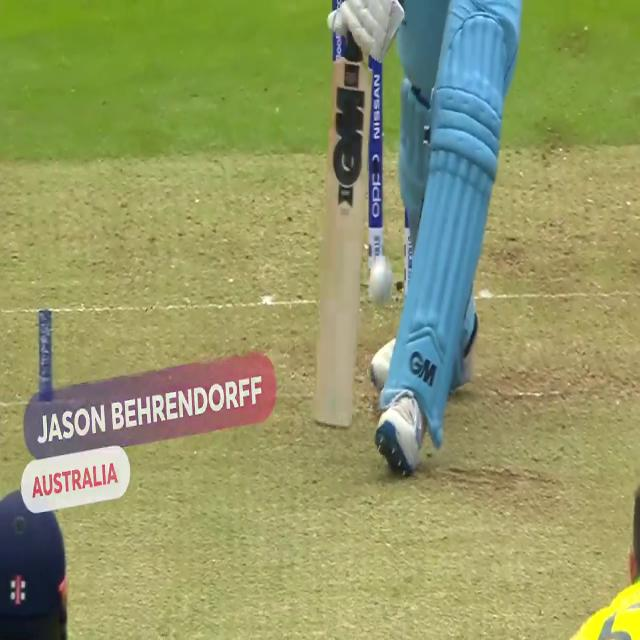ball: (366, 249, 397, 317)
